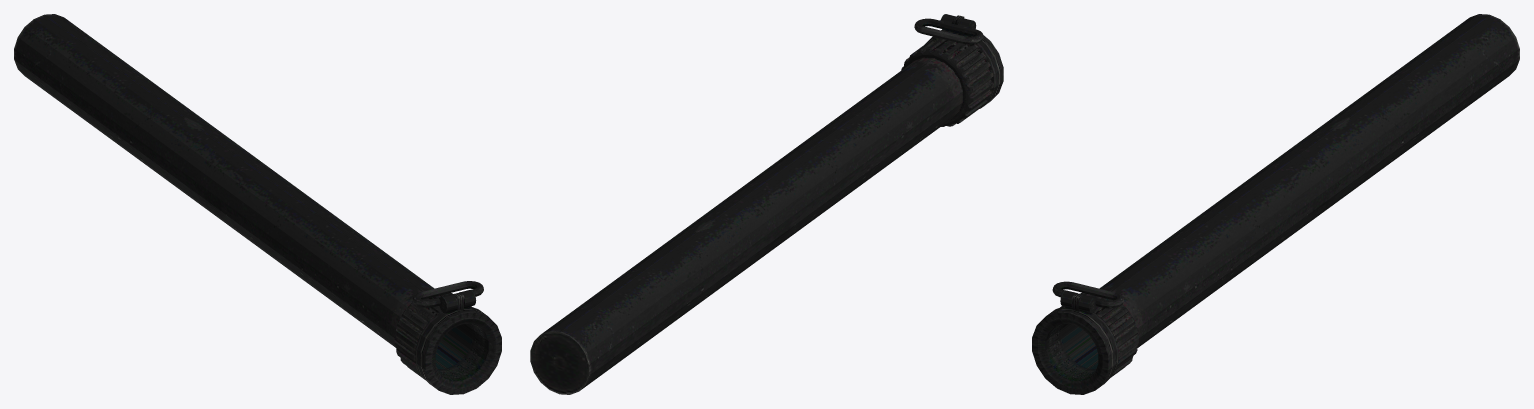
3 renders of one model, left to right at view 1: azimuth 30°, elevation 25°; view 2: azimuth 150°, elevation 25°; view 3: azimuth 330°, elevation 25°, orthographic. The views are drawn at different scales.
Visible parts, largest first — view 1: TW_5882163224597757561aa920_PZ_Import; view 2: TW_5882163224597757561aa920_PZ_Import; view 3: TW_5882163224597757561aa920_PZ_Import.
Part boxes in pixels (left/top/right/bottom): TW_5882163224597757561aa920_PZ_Import: left=14, top=14, right=501, bottom=394; TW_5882163224597757561aa920_PZ_Import: left=530, top=14, right=1003, bottom=394; TW_5882163224597757561aa920_PZ_Import: left=1032, top=14, right=1519, bottom=394.
Bounding box in the file's own units: 0.0167 × 0.1594 × 0.0198.
1 material, 1 textured.
